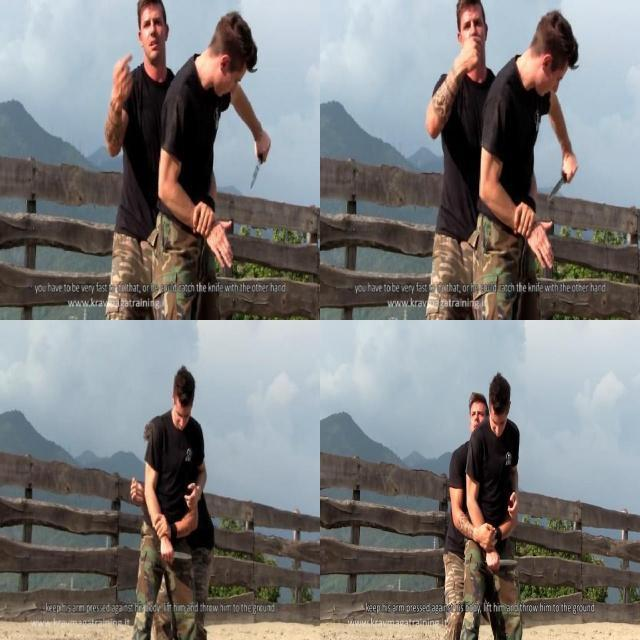-: (544, 155, 580, 204), (246, 134, 272, 192), (155, 542, 193, 562), (483, 553, 519, 570)
